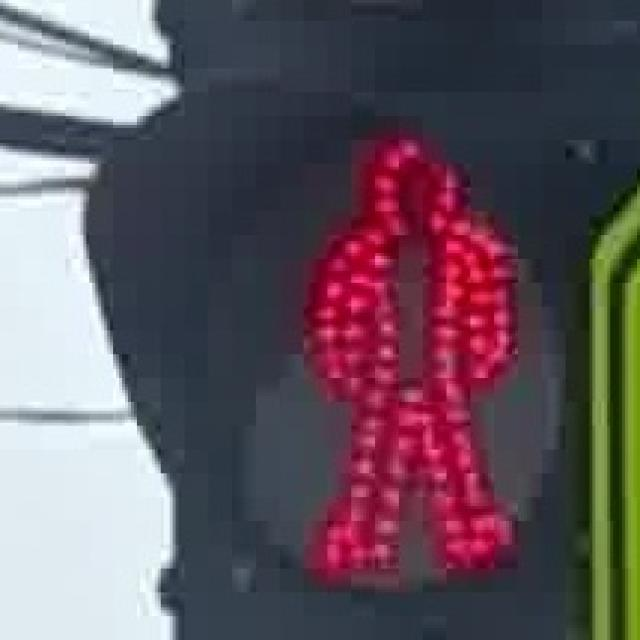red_light: (277, 98, 530, 607)
